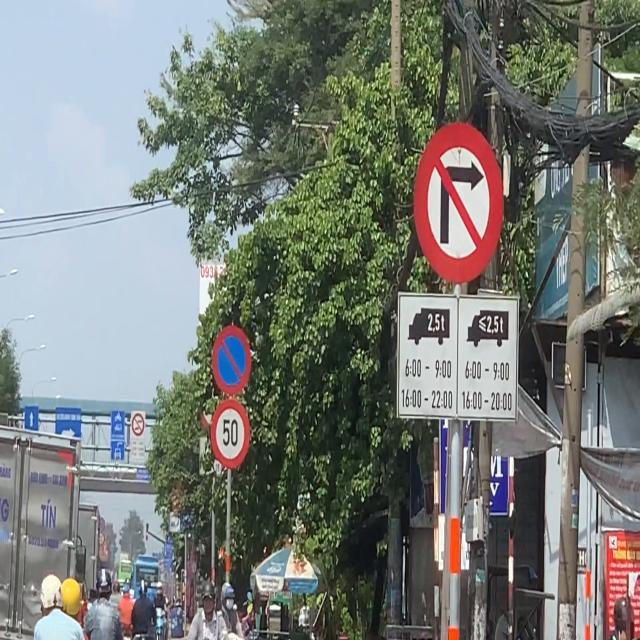Cam do: (210, 328, 256, 397)
Cam re phai: (413, 106, 500, 277)
Toc do toi da: (209, 396, 250, 474)
